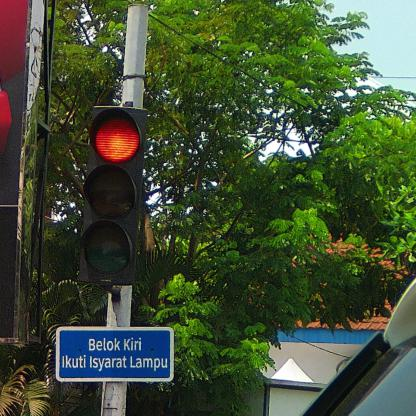red: (76, 107, 146, 283)
